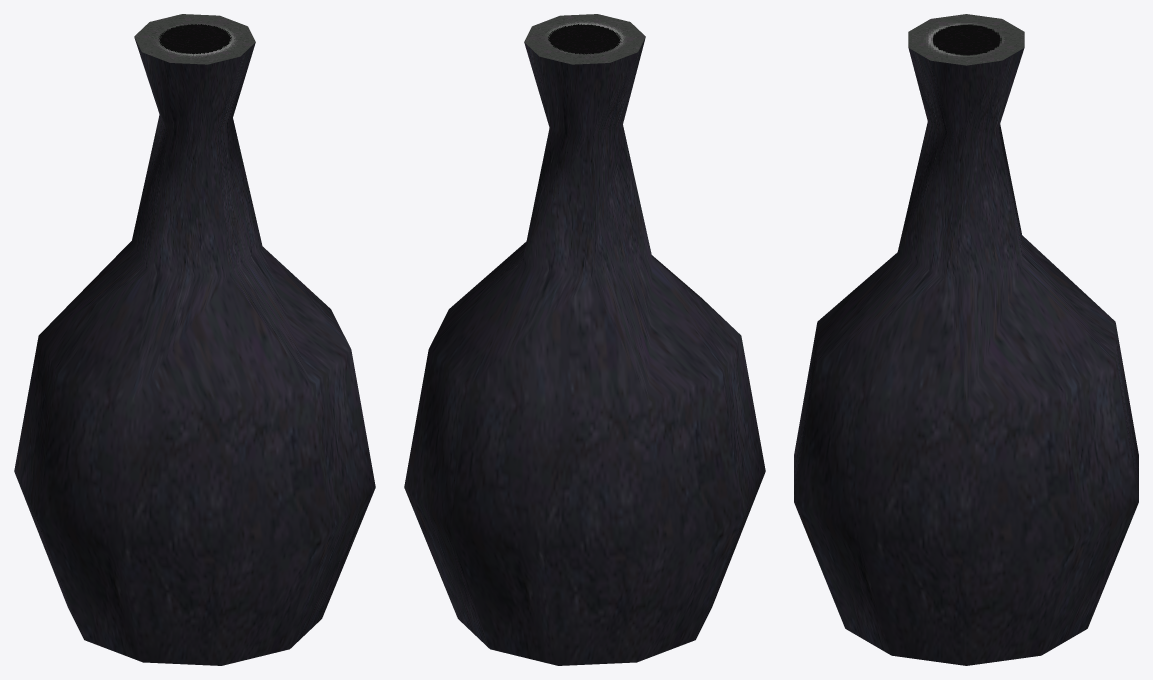
The model's file is edb_con_tato_bottle_empty_s01_l1.fbx.
3 renders of one model, left to right at view 1: azimuth 30°, elevation 25°; view 2: azimuth 150°, elevation 25°; view 3: azimuth 270°, elevation 25°, orthographic.
Visible parts, largest first — view 1: mesh_node; view 2: mesh_node; view 3: mesh_node.
Part boxes in pixels (x1,y1,x2,y2): mesh_node: [14, 14, 375, 665]; mesh_node: [404, 14, 765, 665]; mesh_node: [794, 14, 1138, 665].
Size of the model in its own units: 0.2774 by 0.4831 by 0.2638.
